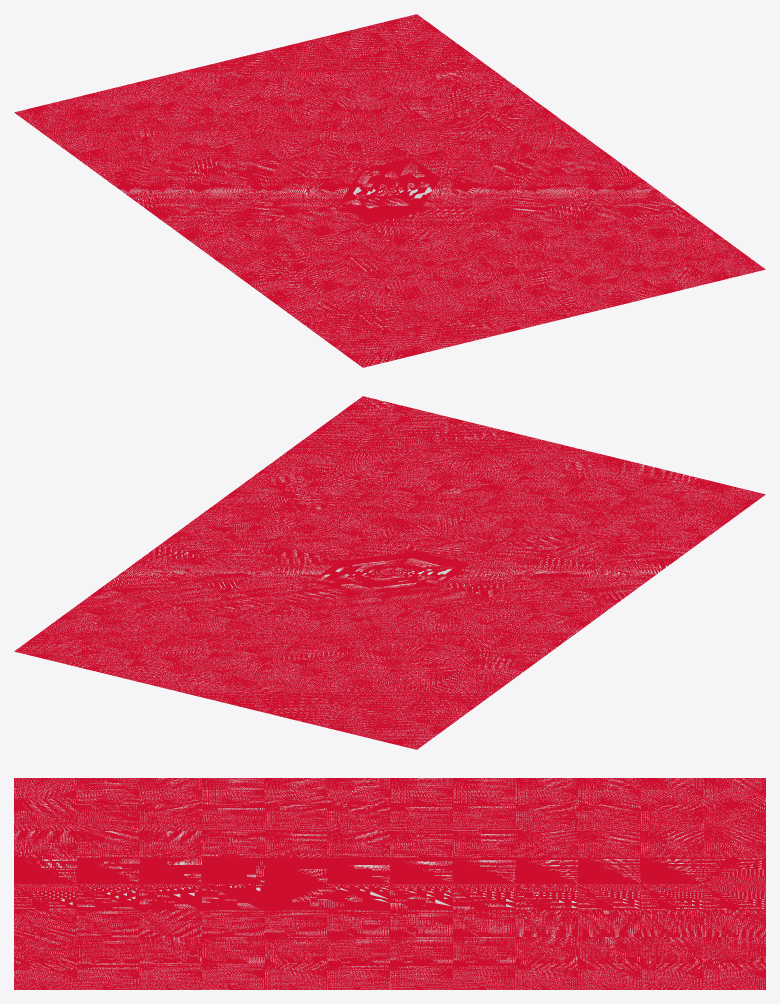
Rendered from Page.fbx.
The picture shows the model from 3 angles, top to bottom: view 1: azimuth 30°, elevation 25°; view 2: azimuth 150°, elevation 25°; view 3: azimuth 270°, elevation 25°; orthographic projection. The views are drawn at different scales.
Parts seen in each view (by area): view 1: Plane; view 2: Plane; view 3: Plane.
Boxes of the visible parts, x1=… form: Plane: x1=14, y1=14, x2=765, y2=367; Plane: x1=14, y1=396, x2=765, y2=749; Plane: x1=14, y1=778, x2=765, y2=989.
Bounding box in the file's own units: 200 × 3.06e-05 × 300.
